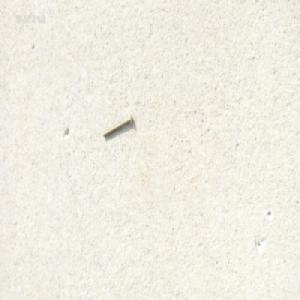Bolt: (102, 113, 133, 138)
